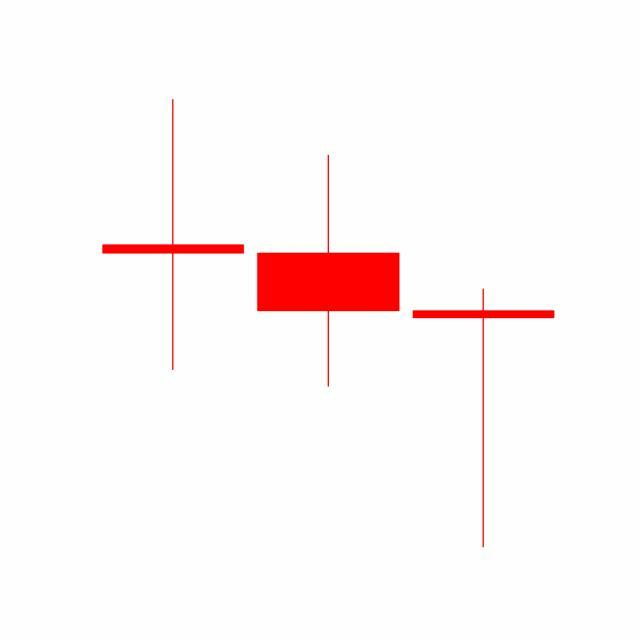Spinning Top: (250, 153, 407, 390)
